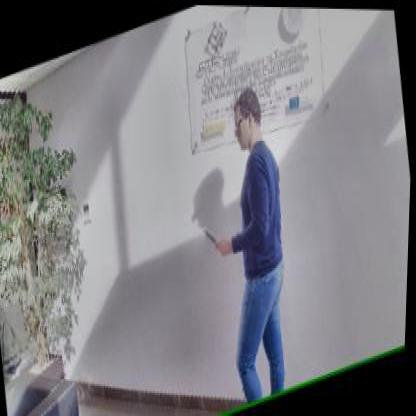knife: (202, 214, 226, 255)
